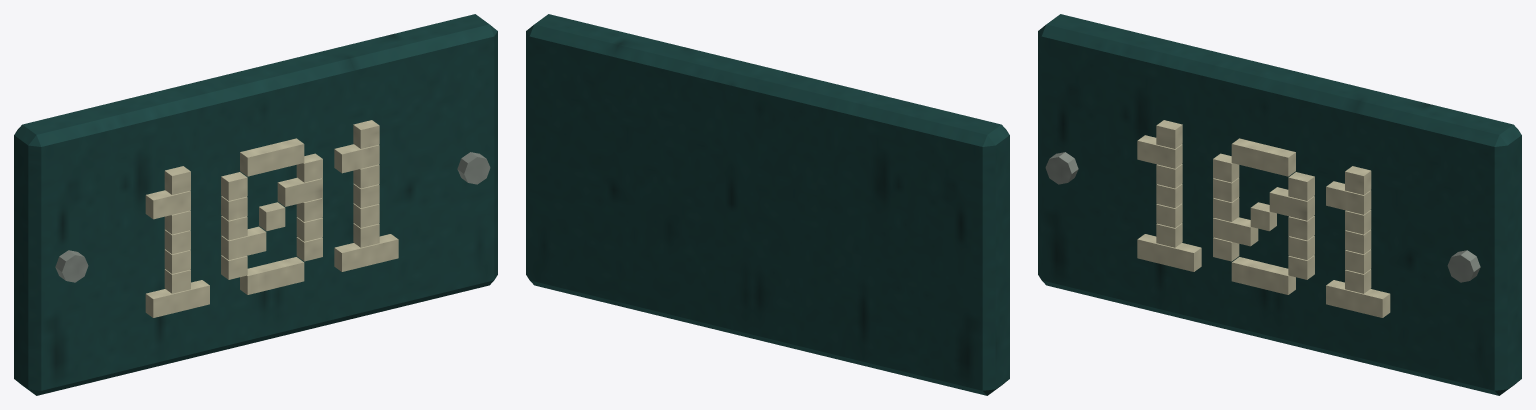
File: room_number_plaque.glb
3 views of the same model, side by side, from view 1: azimuth 30°, elevation 25°; view 2: azimuth 150°, elevation 25°; view 3: azimuth 330°, elevation 25° (orthographic).
Visible parts, largest first — view 1: room_number_plaque; view 2: room_number_plaque; view 3: room_number_plaque.
Boxes of the visible parts, left/top/right/bottom form: room_number_plaque: left=14, top=14, right=497, bottom=395; room_number_plaque: left=526, top=14, right=1009, bottom=395; room_number_plaque: left=1038, top=14, right=1521, bottom=395.
Size of the model in its own units: 0.32 by 0.17 by 0.038.
3 materials, 3 textured.
